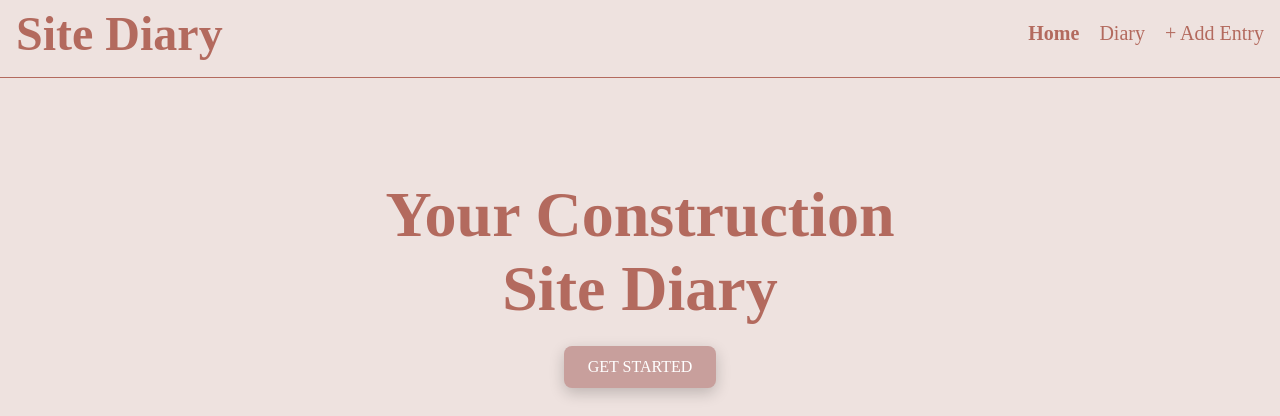
it: Home Component › should navigate to /diary-entries when clicking on "GET STARTED"
What coordinates should you click on to do the following:
click the link "GET STARTED"
I would click on:
 (640, 367)
Its box is [564,346,716,388].
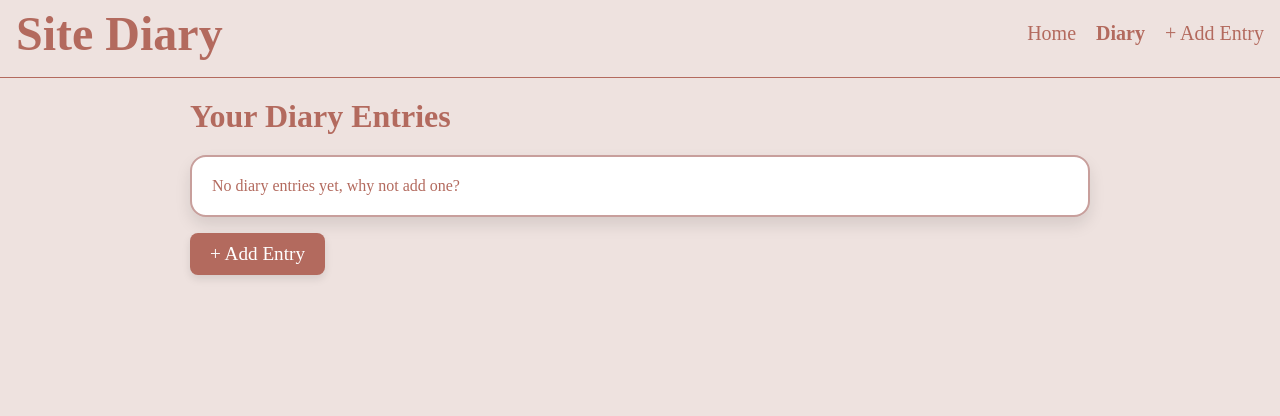
Now the heading "Your Diary Entries" is shown, box [190,98,451,134]
